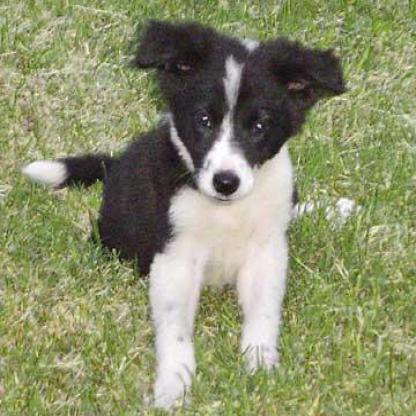collie: (23, 13, 347, 412)
